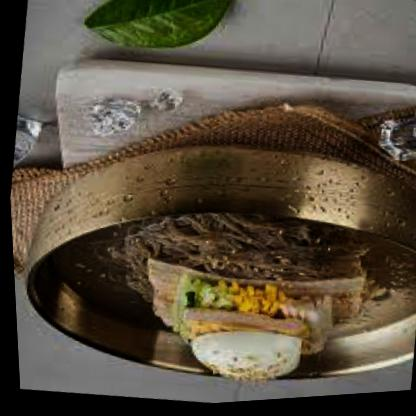naengMyeon: (9, 159, 415, 415)
